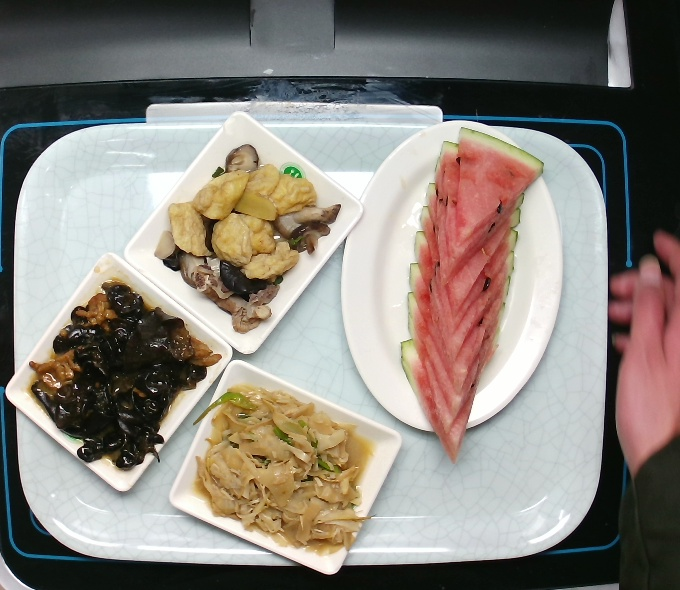wcq-LuSun: (189, 385, 380, 553)
wcq-MuErChaoRou: (30, 286, 217, 477)
wcq-XiGua: (387, 134, 555, 469)
wcq-YouPaoPaiGu: (155, 145, 337, 319)
